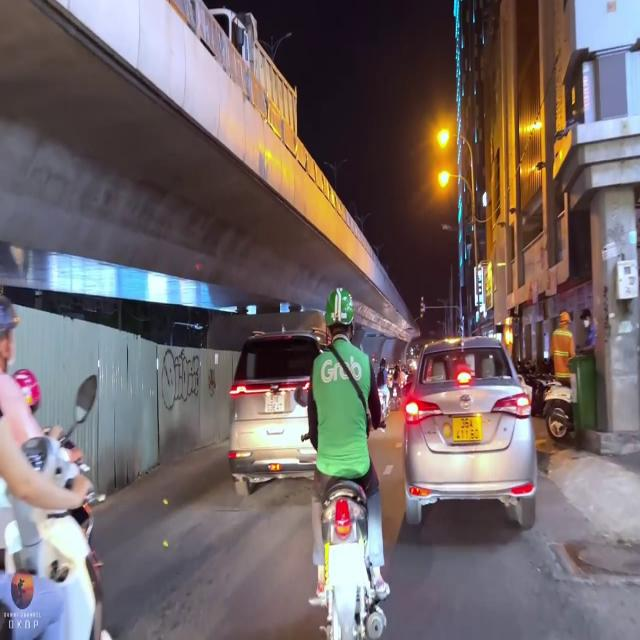bien_vang: (451, 417, 483, 447)
